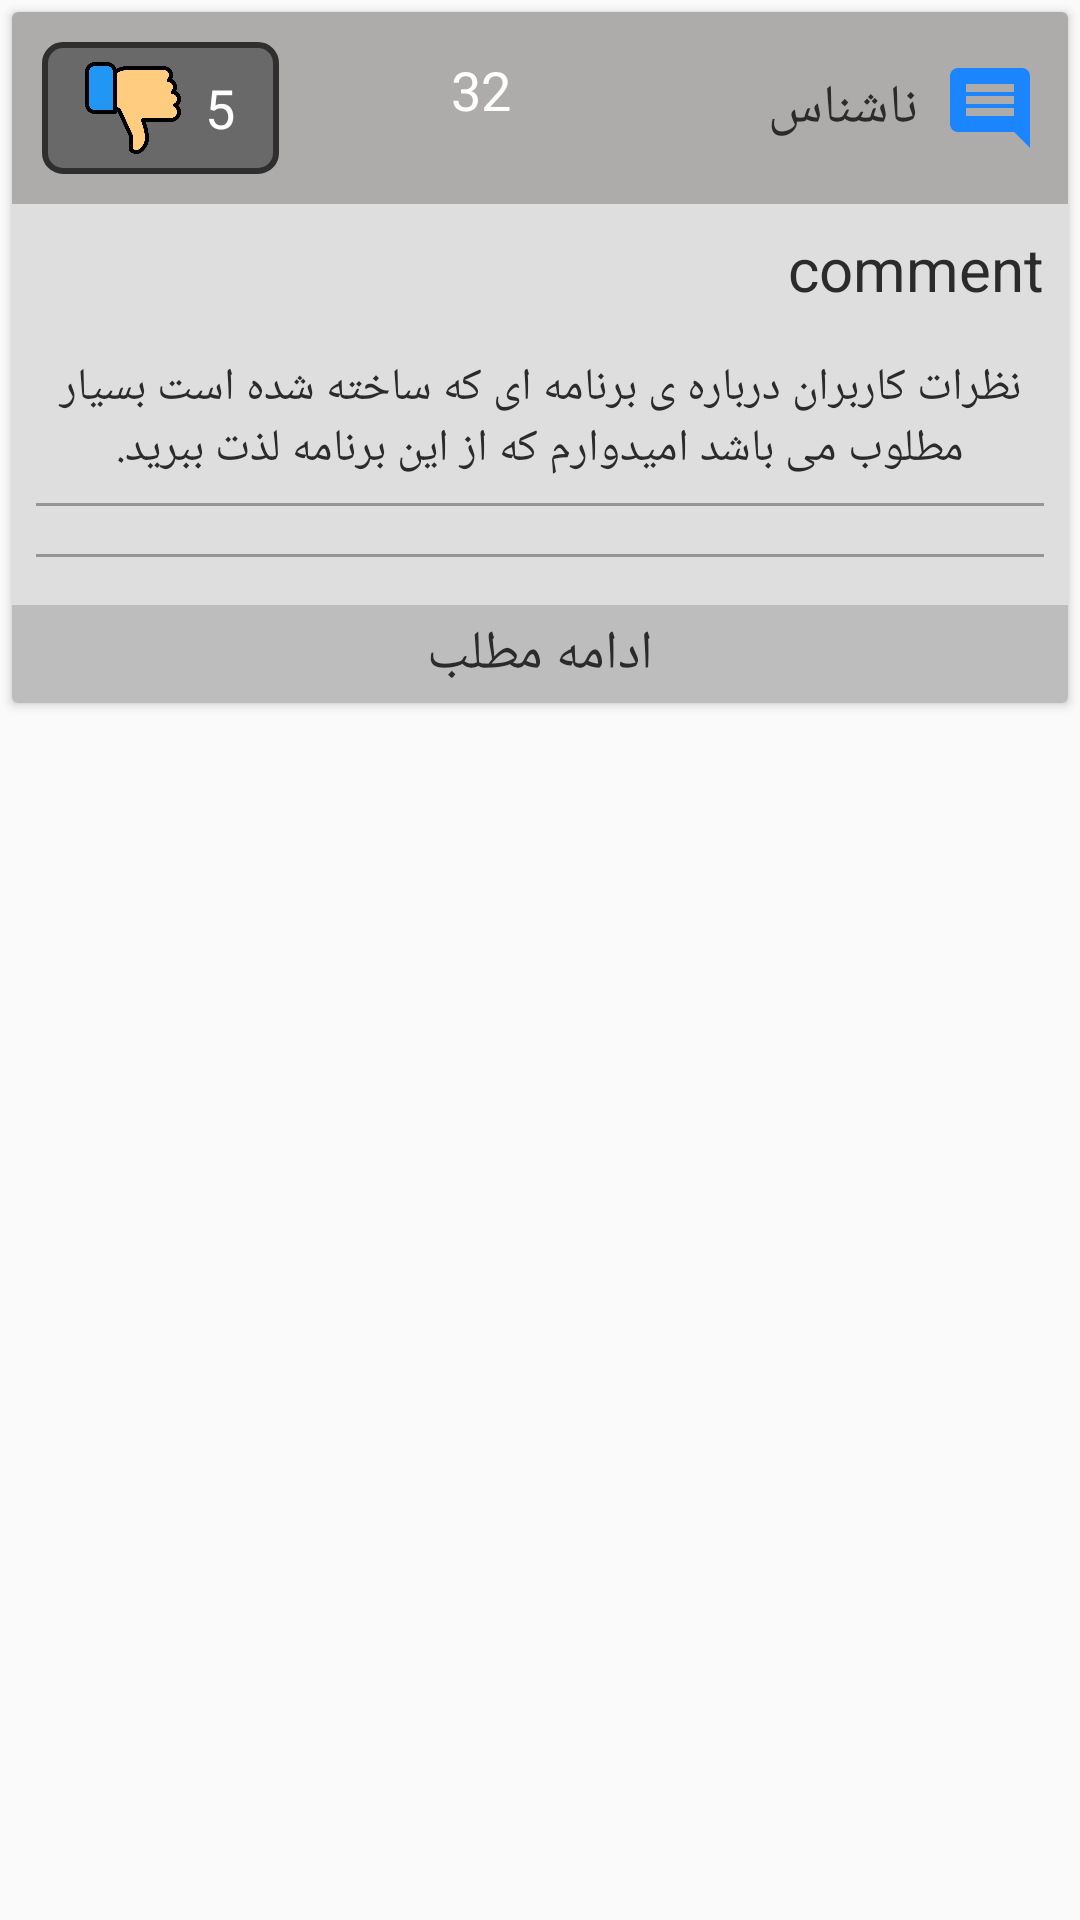

Where icons sit on this 1080px x 1920px app screen, as (left=x1, top=y1, right=x2, bottom=y2):
dislike: (left=85, top=62, right=181, bottom=154)
